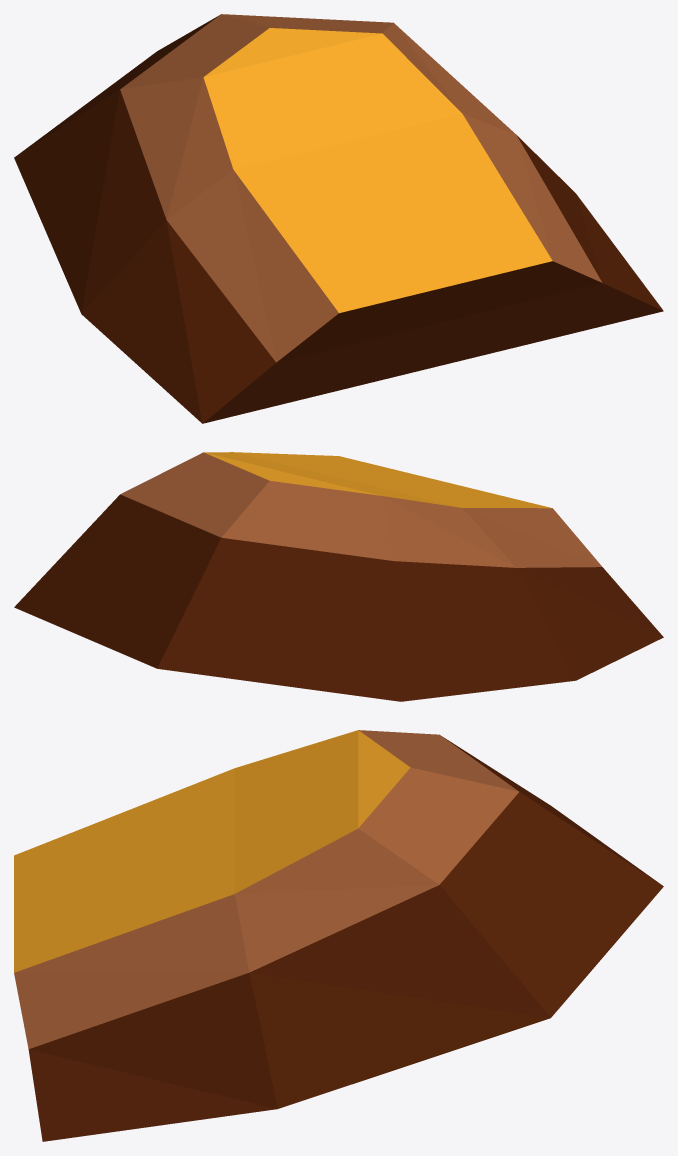
File: Poleyn 10.FBX
The picture shows the model from 3 angles, top to bottom: view 1: azimuth 30°, elevation 25°; view 2: azimuth 150°, elevation 25°; view 3: azimuth 270°, elevation 25°; orthographic projection. The views are drawn at different scales.
Parts seen in each view (by area): view 1: Poleyn 10; view 2: Poleyn 10; view 3: Poleyn 10.
Part boxes in pixels (<box>): Poleyn 10: <box>14,14,663,423</box>; Poleyn 10: <box>14,452,663,701</box>; Poleyn 10: <box>14,730,663,1141</box>.
Size of the model in its own units: 12.28 by 5.22 by 12.42.
Materials: 1 (1 with a texture image).
